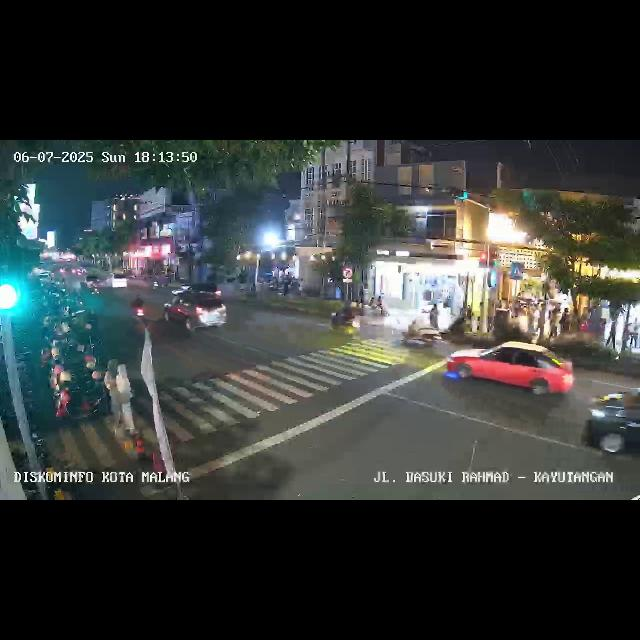car: (447, 339, 575, 401), (582, 386, 640, 466), (164, 289, 228, 335), (106, 273, 130, 291)
motorcycle: (398, 312, 440, 352), (329, 302, 356, 334), (132, 294, 146, 326)
person: (108, 360, 136, 442), (550, 304, 560, 340), (535, 302, 545, 338), (526, 301, 536, 337), (606, 320, 616, 350), (560, 305, 570, 335), (631, 316, 639, 352), (429, 302, 439, 330), (622, 324, 630, 352)
